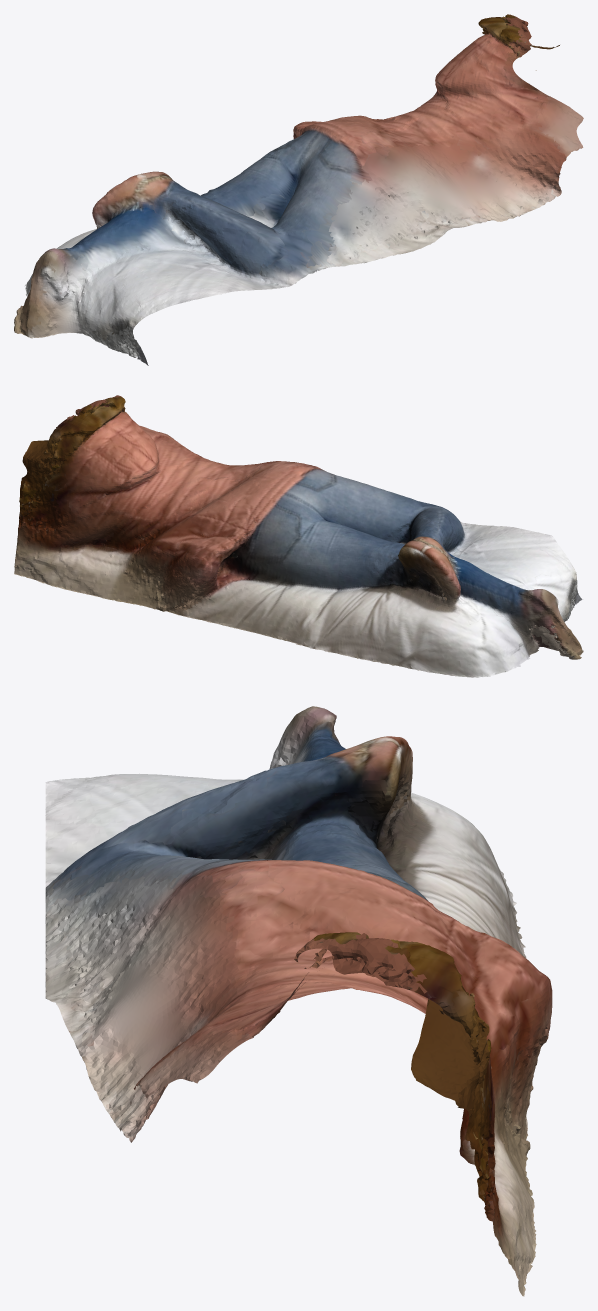
3 renders of one model, top to bottom at view 1: azimuth 30°, elevation 25°; view 2: azimuth 150°, elevation 25°; view 3: azimuth 270°, elevation 25°, orthographic. The views are drawn at different scales.
Size of the model in its own units: 1.58 by 0.4526 by 0.6669.
1 material, 1 textured.
